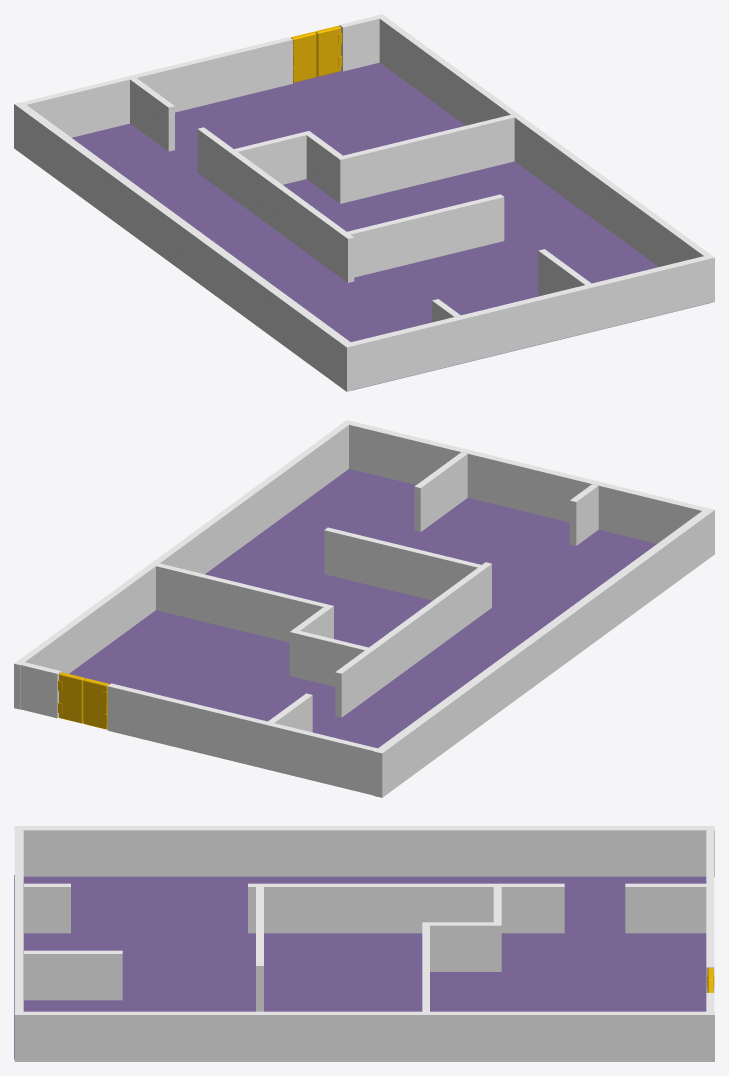
Rendered from maps_73.fbx.
The picture shows the model from 3 angles, top to bottom: view 1: azimuth 30°, elevation 25°; view 2: azimuth 150°, elevation 25°; view 3: azimuth 270°, elevation 25°; orthographic projection. The views are drawn at different scales.
Parts seen in each view (by area): view 1: wall_01_08_geo, wall_01_07_geo, wall_01_05_geo, wall_01_06_geo, wall_01_09_geo, wall_01_11_geo27, wall_01_11_geo28, wall_01_11_geo31, wall_01_11_geo26, wall_01_11_geo21, wall_01_09_geo1, wall_01_11_geo30 (+3 smaller); view 2: wall_01_08_geo, wall_01_07_geo, wall_01_06_geo, wall_01_05_geo, wall_01_09_geo, wall_01_11_geo28, wall_01_11_geo27, wall_01_11_geo31, wall_01_11_geo32, wall_01_11_geo26, wall_01_09_geo1, wall_01_11_geo29 (+4 smaller); view 3: wall_01_08_geo, wall_01_06_geo, wall_01_07_geo, wall_01_11_geo28, wall_01_11_geo32, wall_01_11_geo21, wall_01_11_geo30, wall_01_11_geo29, wall_01_05_geo, wall_01_09_geo, wall_01_11_geo31, wall_01_11_geo27.
Boxes of the visible parts, x1=… form: wall_01_08_geo: x1=72, y1=62, x2=710, y2=390; wall_01_07_geo: x1=14, y1=102, x2=354, y2=391; wall_01_05_geo: x1=351, y1=256, x2=708, y2=389; wall_01_06_geo: x1=376, y1=14, x2=714, y2=303; wall_01_09_geo: x1=23, y1=37, x2=292, y2=137; wall_01_11_geo27: x1=336, y1=114, x2=515, y2=203; wall_01_11_geo28: x1=197, y1=127, x2=354, y2=282; wall_01_11_geo31: x1=347, y1=194, x2=504, y2=277; wall_01_11_geo26: x1=234, y1=132, x2=306, y2=184; wall_01_11_geo21: x1=130, y1=78, x2=174, y2=151; wall_01_09_geo1: x1=339, y1=16, x2=379, y2=71; wall_01_11_geo30: x1=303, y1=131, x2=342, y2=200; wall_01_08_geo: x1=69, y1=469, x2=656, y2=748; wall_01_07_geo: x1=373, y1=508, x2=714, y2=797; wall_01_06_geo: x1=14, y1=420, x2=352, y2=709; wall_01_05_geo: x1=349, y1=421, x2=706, y2=543; wall_01_09_geo: x1=107, y1=683, x2=377, y2=795; wall_01_11_geo28: x1=335, y1=562, x2=491, y2=717; wall_01_11_geo27: x1=154, y1=563, x2=333, y2=642; wall_01_11_geo31: x1=324, y1=527, x2=481, y2=600; wall_01_11_geo32: x1=414, y1=452, x2=467, y2=531; wall_01_11_geo26: x1=296, y1=631, x2=368, y2=686; wall_01_09_geo1: x1=21, y1=662, x2=61, y2=718; wall_01_11_geo29: x1=569, y1=484, x2=598, y2=545; wall_01_08_geo: x1=14, y1=875, x2=706, y2=1059; wall_01_06_geo: x1=14, y1=1011, x2=714, y2=1061; wall_01_07_geo: x1=14, y1=826, x2=714, y2=877; wall_01_11_geo28: x1=248, y1=883, x2=564, y2=933; wall_01_11_geo32: x1=24, y1=950, x2=122, y2=1000; wall_01_11_geo21: x1=625, y1=883, x2=706, y2=933; wall_01_11_geo30: x1=430, y1=922, x2=501, y2=971; wall_01_11_geo29: x1=24, y1=883, x2=70, y2=933; wall_01_05_geo: x1=14, y1=830, x2=23, y2=1011; wall_01_09_geo: x1=706, y1=830, x2=714, y2=992; wall_01_11_geo31: x1=256, y1=886, x2=263, y2=1011; wall_01_11_geo27: x1=422, y1=922, x2=429, y2=1011.
Bounding box in the file's own units: 76.85 × 8.89 × 120.
Materials: 2 (2 with a texture image).
